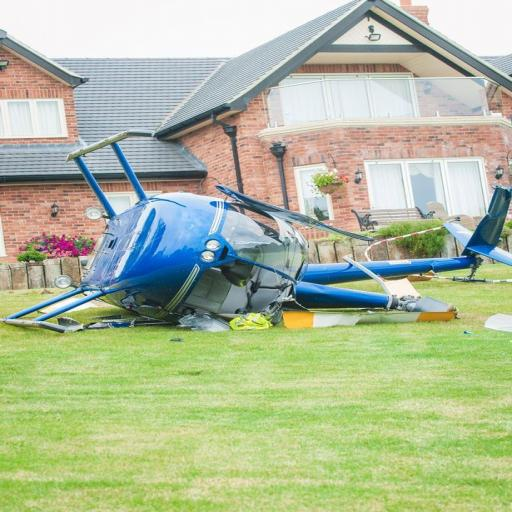helicopter: (4, 124, 511, 353)
